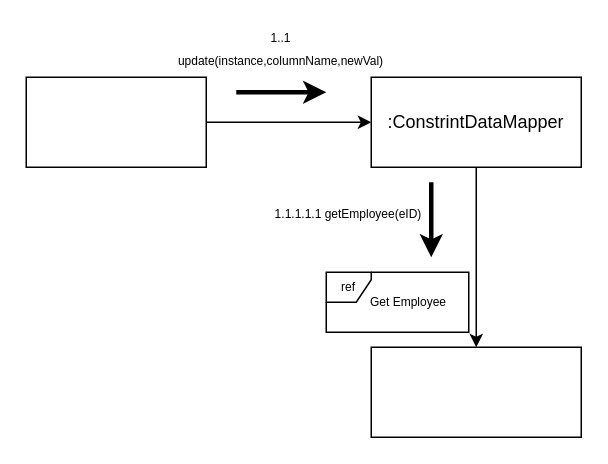
Some shapes in this 608 by 464 pixel diagram are drawn without their labels. Each missing label, with the centre of its shape:
":ConstraintController" goes at (115,121).
"bEmployee :BusinessEmployee" goes at (475,391).
